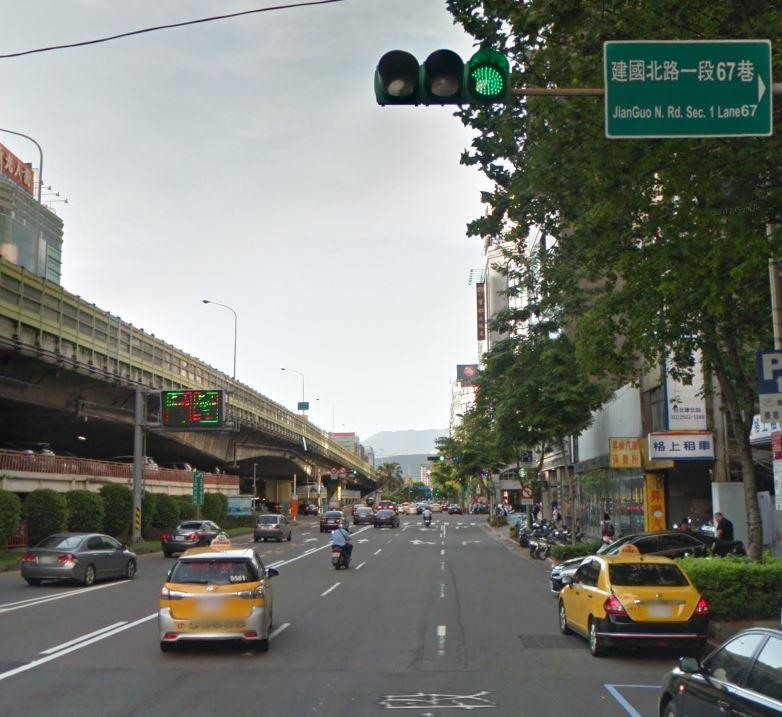car: (552, 545, 716, 656), (154, 534, 282, 659), (660, 618, 782, 716), (11, 522, 142, 591), (151, 512, 225, 562), (250, 512, 294, 541), (319, 506, 351, 536), (372, 504, 404, 527)
green_traffic_light: (372, 47, 509, 108)
motorcycle: (329, 528, 351, 569)
